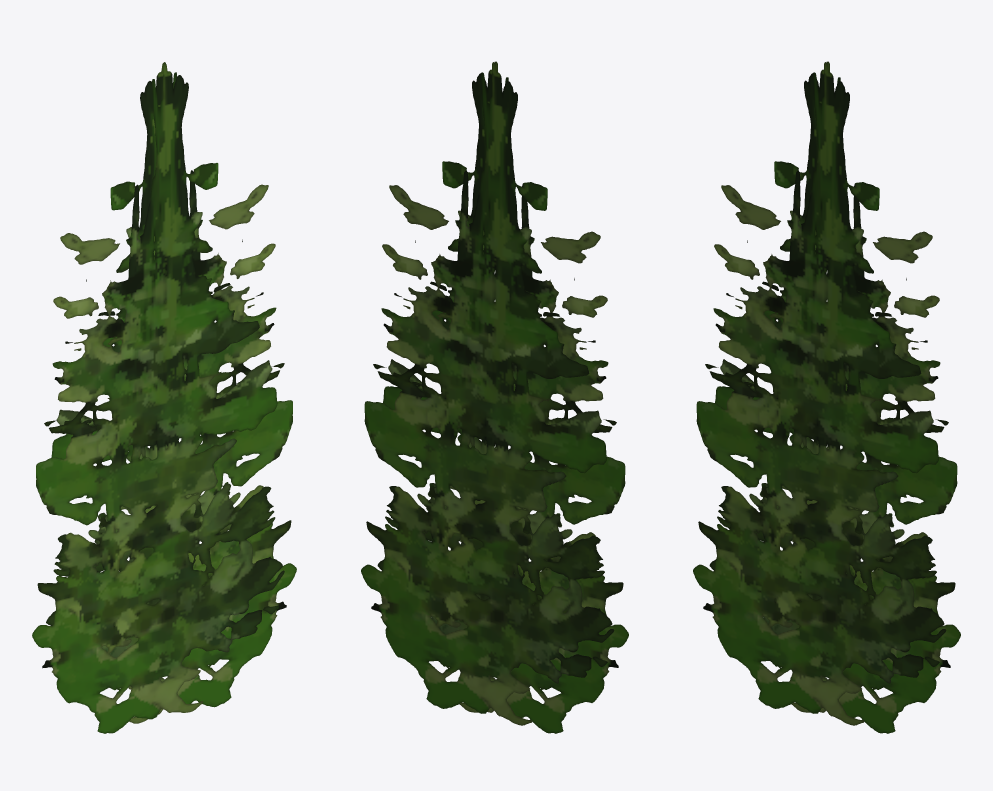
File: Herb3.FBX
3 renders of one model, left to right at view 1: azimuth 30°, elevation 25°; view 2: azimuth 150°, elevation 25°; view 3: azimuth 330°, elevation 25°, orthographic.
Visible parts, largest first — view 1: Herb3; view 2: Herb3; view 3: Herb3.
Boxes of the visible parts, box(x1,y1,x2,y2) form: Herb3: box(32, 62, 296, 733); Herb3: box(361, 61, 628, 733); Herb3: box(693, 61, 960, 733).
Bounding box in the file's own units: 2.91 × 6.34 × 0.0219.
Materials: 1 (1 with a texture image).
